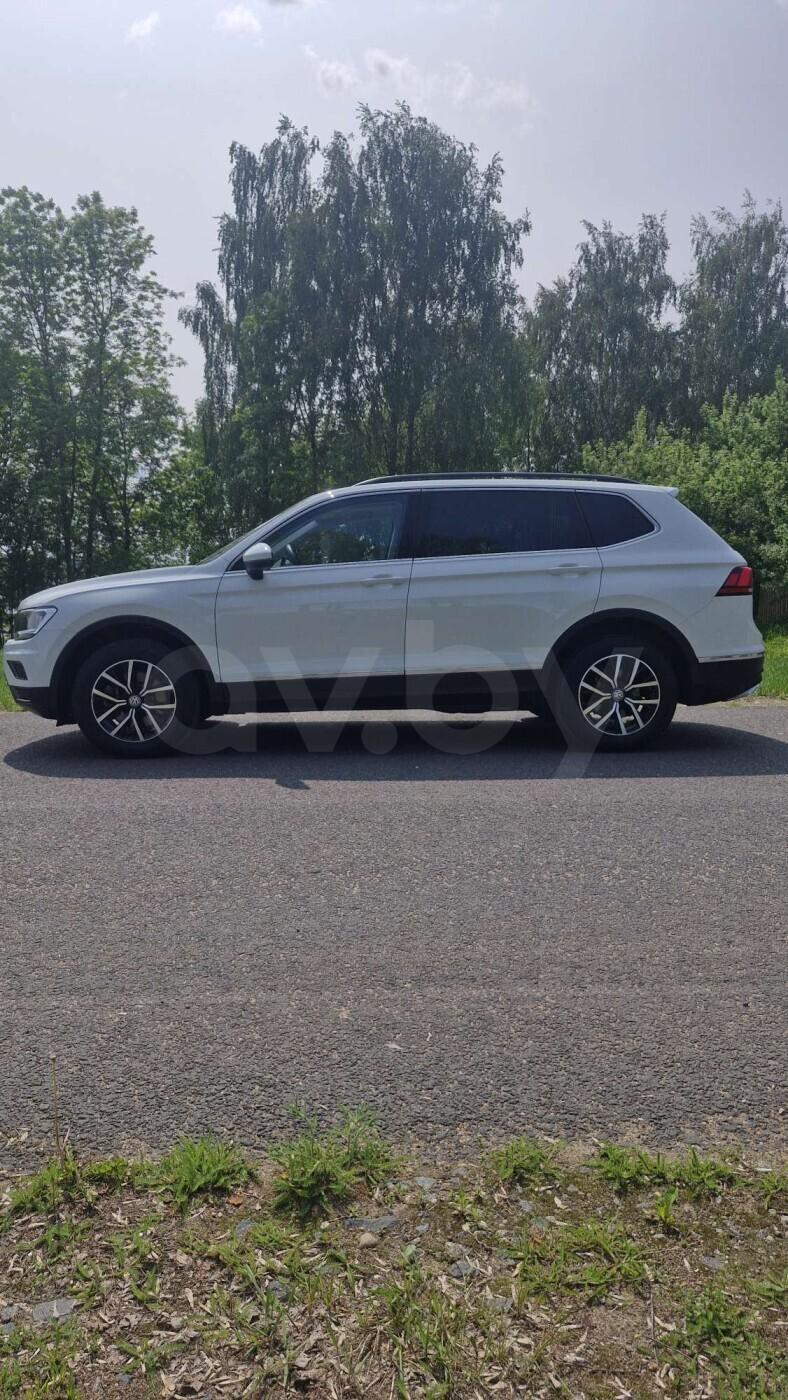Tiguan_2016-2021: (2, 468, 766, 758)
